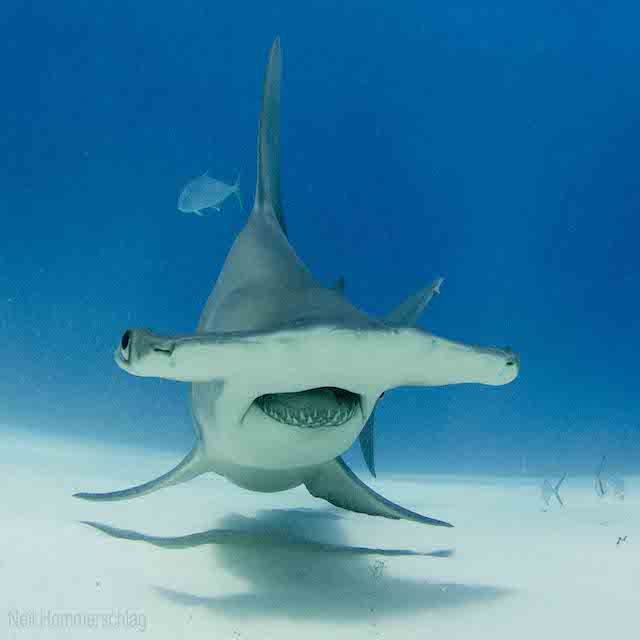hammerhead: (87, 277, 583, 485)
